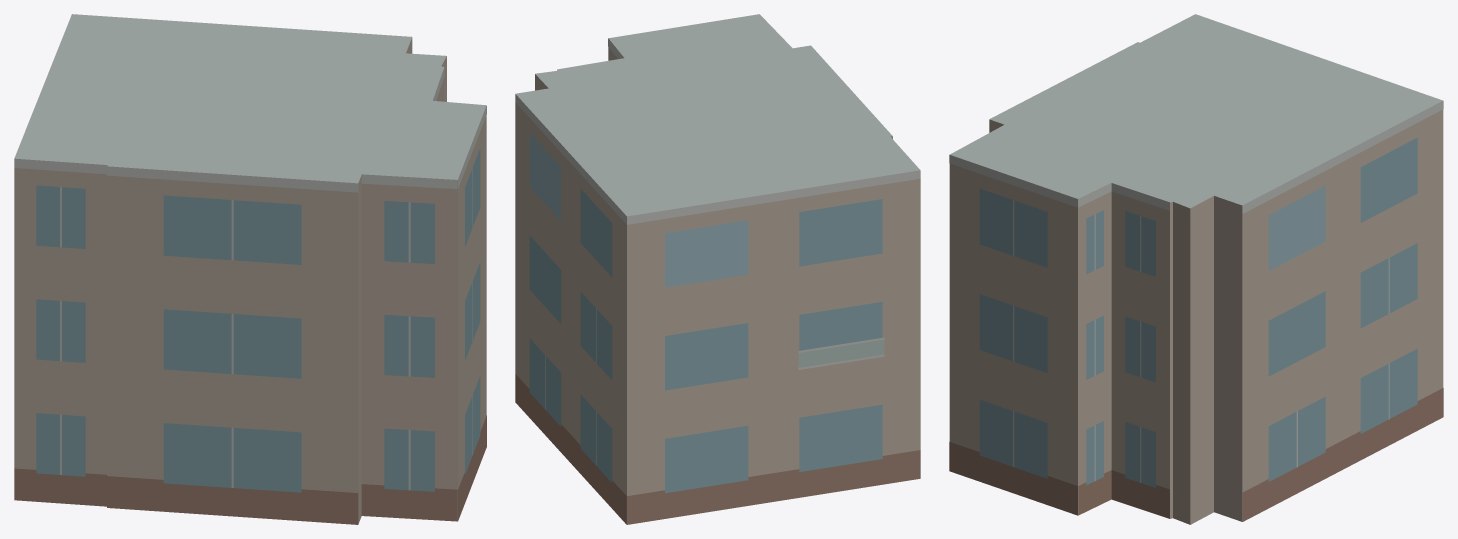
Rendered from survey-upis-32659439.glb.
The picture shows the model from 3 angles, left to right: view 1: azimuth 30°, elevation 25°; view 2: azimuth 150°, elevation 25°; view 3: azimuth 270°, elevation 25°; orthographic projection. The views are drawn at different scales.
Parts seen in each view (by area): view 1: survey-upis-32659439.tmp; view 2: survey-upis-32659439.tmp; view 3: survey-upis-32659439.tmp.
Boxes of the visible parts, x1=… form: survey-upis-32659439.tmp: x1=14, y1=14, x2=486, y2=524; survey-upis-32659439.tmp: x1=515, y1=14, x2=920, y2=524; survey-upis-32659439.tmp: x1=949, y1=14, x2=1443, y2=524.
Bounding box in the file's own units: 11.86 × 9 × 12.74.
